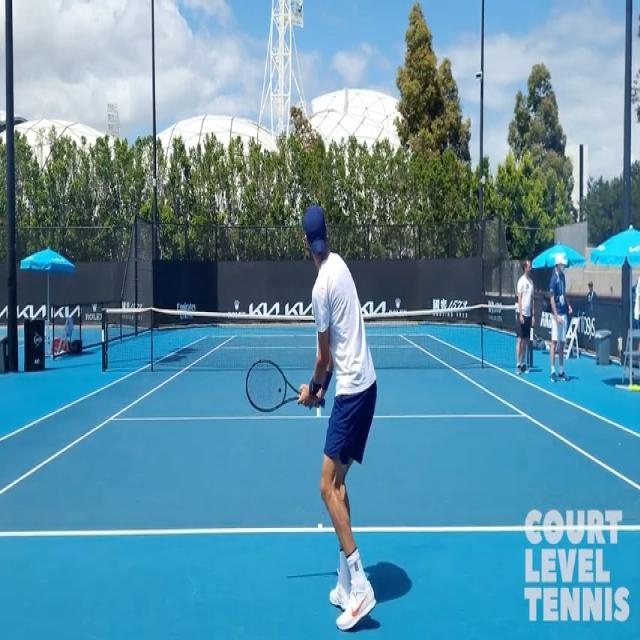backhand-ready: (240, 203, 376, 632)
